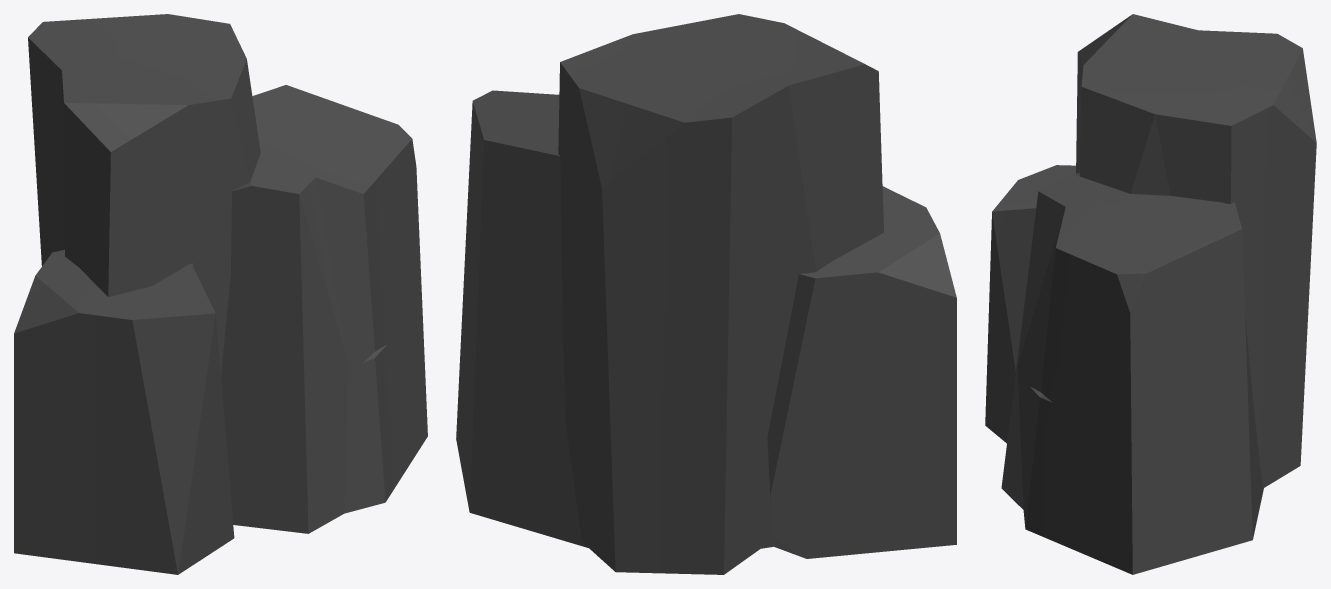
File: volcanicRock03.fbx
3 renders of one model, left to right at view 1: azimuth 30°, elevation 25°; view 2: azimuth 150°, elevation 25°; view 3: azimuth 270°, elevation 25°, orthographic. The views are drawn at different scales.
Parts seen in each view (by area): view 1: Cliff_05; view 2: Cliff_05; view 3: Cliff_05.
Boxes of the visible parts, x1,y1,x2,y2 form: Cliff_05: (14,14,427,574); Cliff_05: (456,14,956,574); Cliff_05: (985,14,1316,574).
Size of the model in its own units: 159 by 149 by 113.
1 material, 1 textured.
